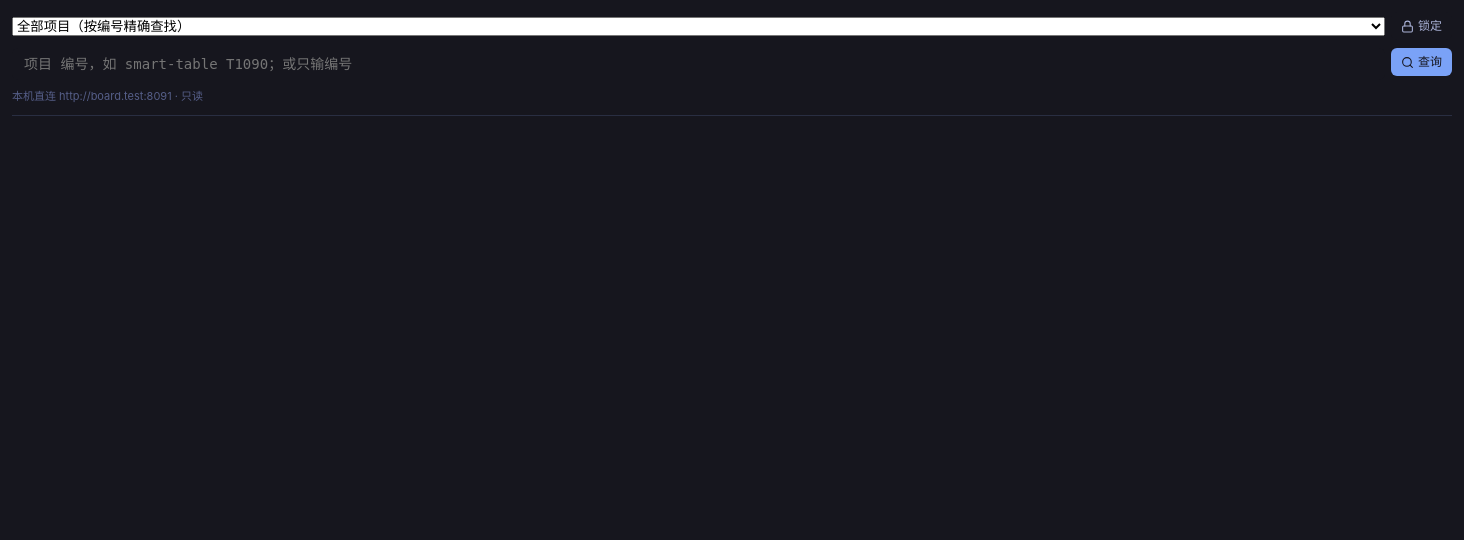
it: locks a project, persists it, and then locates a task by number only
Select "智能台球桌 · smart-table" in the dropdown named "查询项目". click: coordinates (698, 26)
box: [12,16,1385,36]
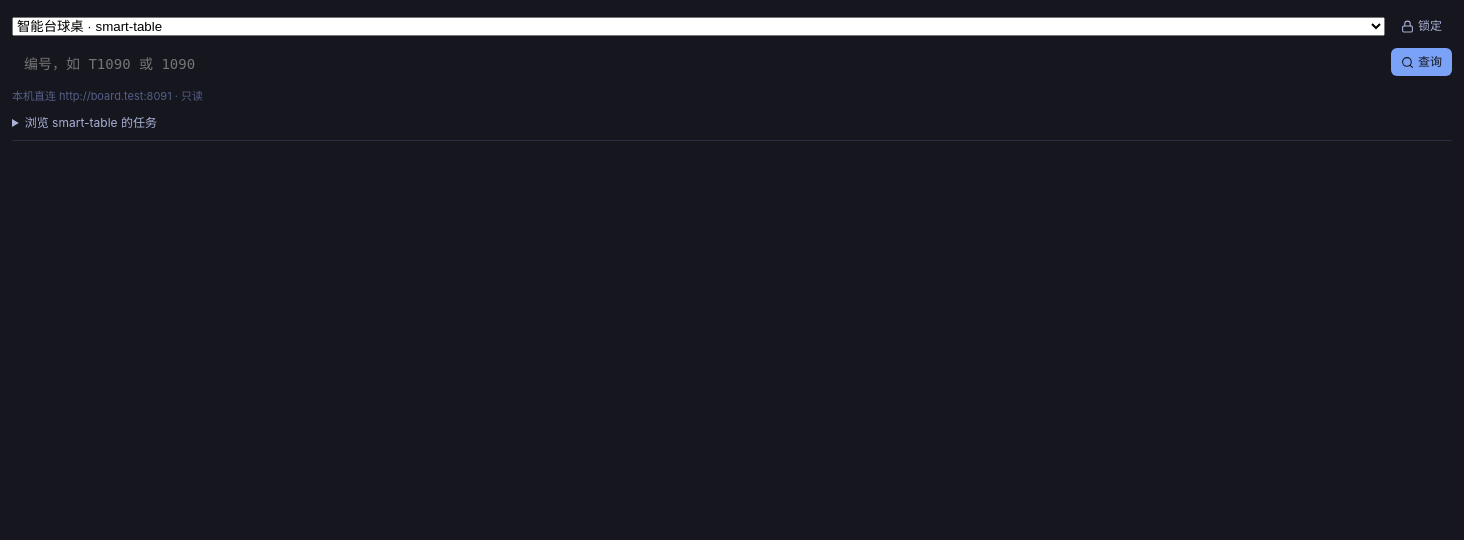
Click the button "锁定". click: coordinates (1422, 26)
box: [1391,12,1452,40]
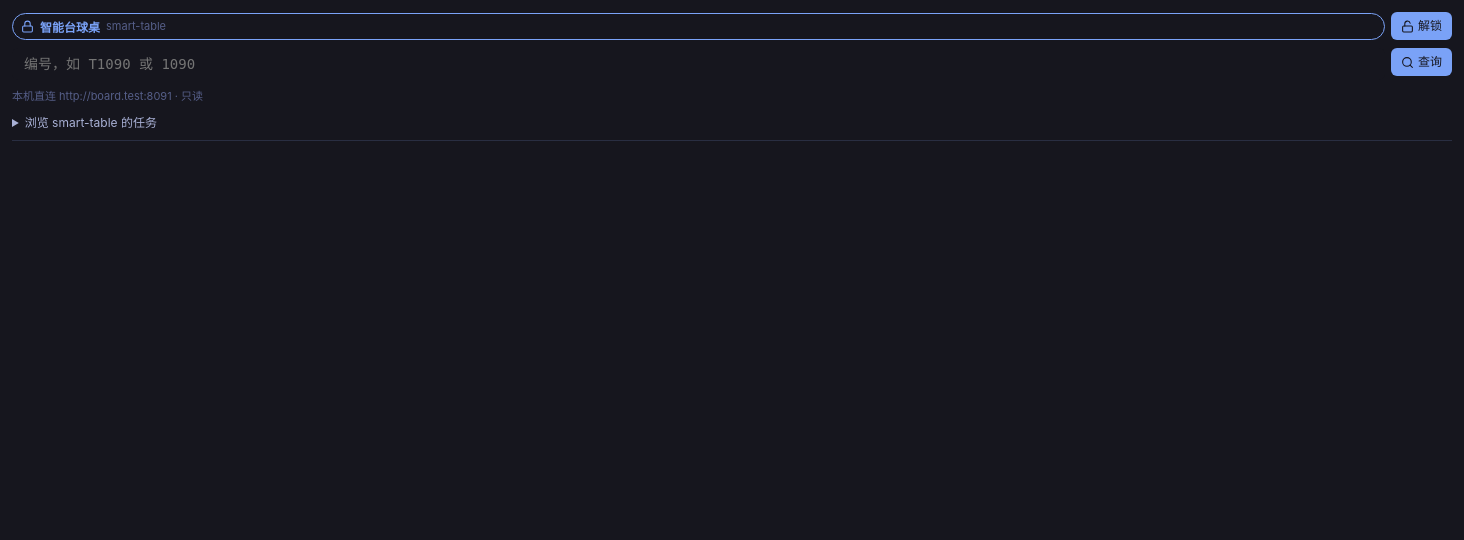
Result: the text "smart-table" is shown at [106,19,166,33]
Result: the text "智能台球桌" is shown at [40,18,100,34]
Result: the dropdown labelled "查询项目" is gone
Type "t1090" into the field named "任务编号". click: coordinates (698, 64)
box: [12,48,1385,80]
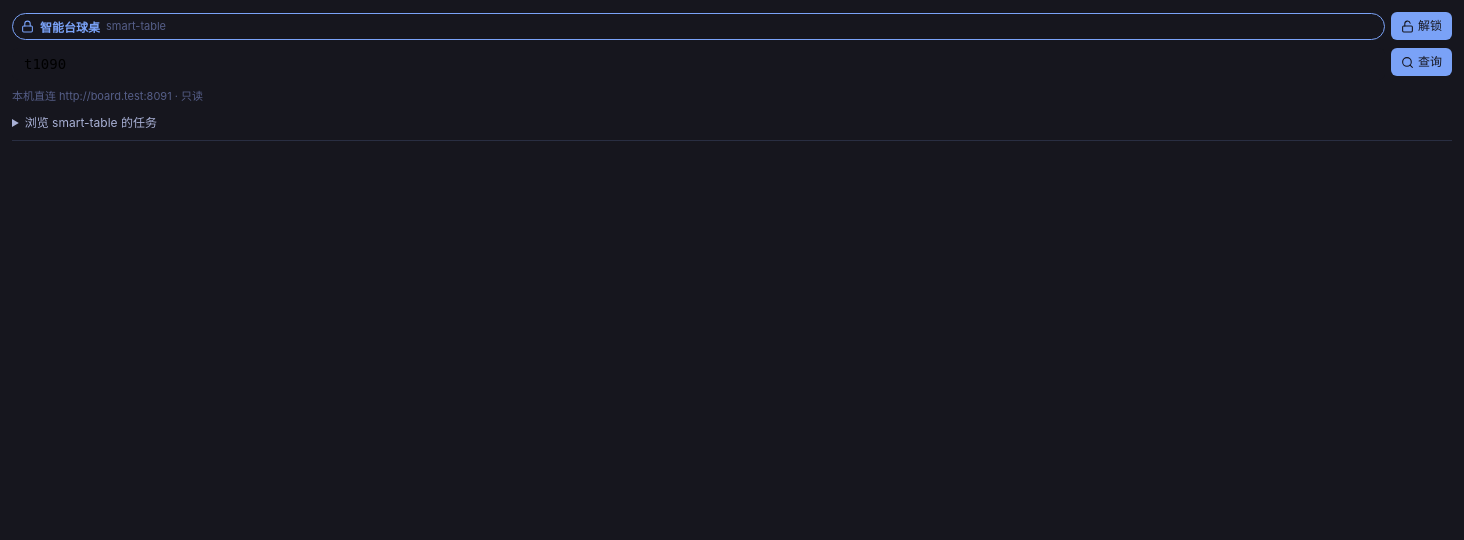
Click the button "查询". click: coordinates (1422, 62)
box: [1391,48,1452,76]
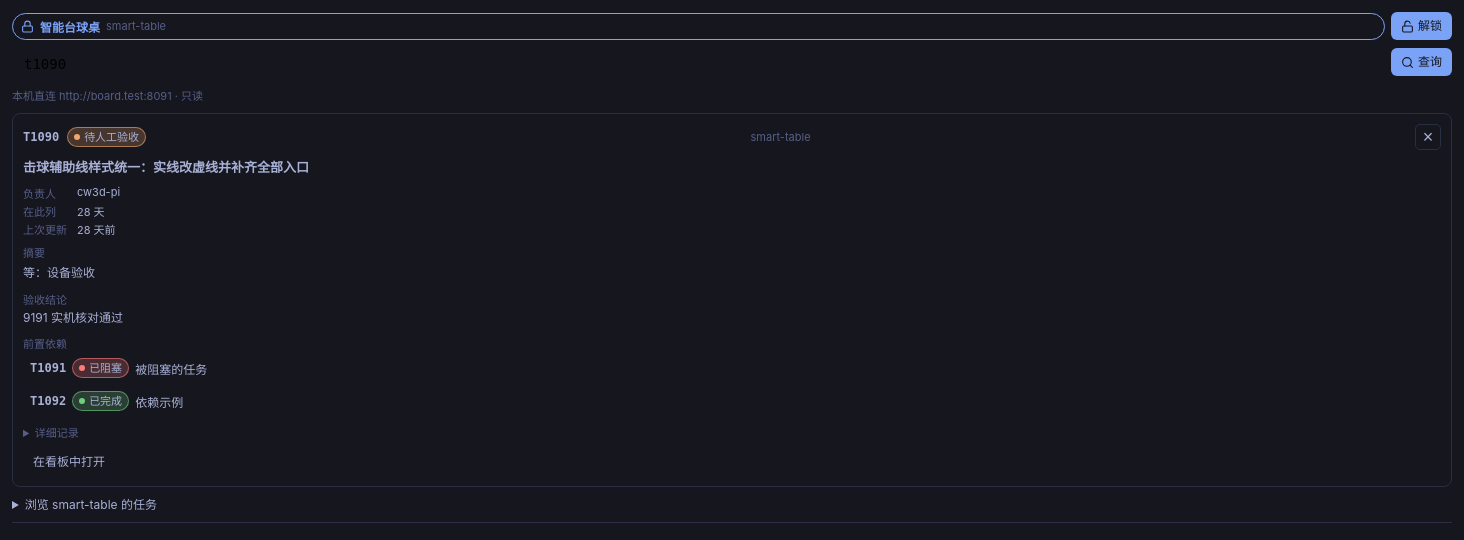
Result: the heading "击球辅助线样式统一：实线改虚线并补齐全部入口" is shown at [23,158,309,174]
Result: the text "待人工验收" is shown at [67,126,146,146]
Result: the text "cw3d-pi" is shown at [77,185,120,199]
Click the button "解锁". click: coordinates (1422, 26)
box: [1391,12,1452,40]
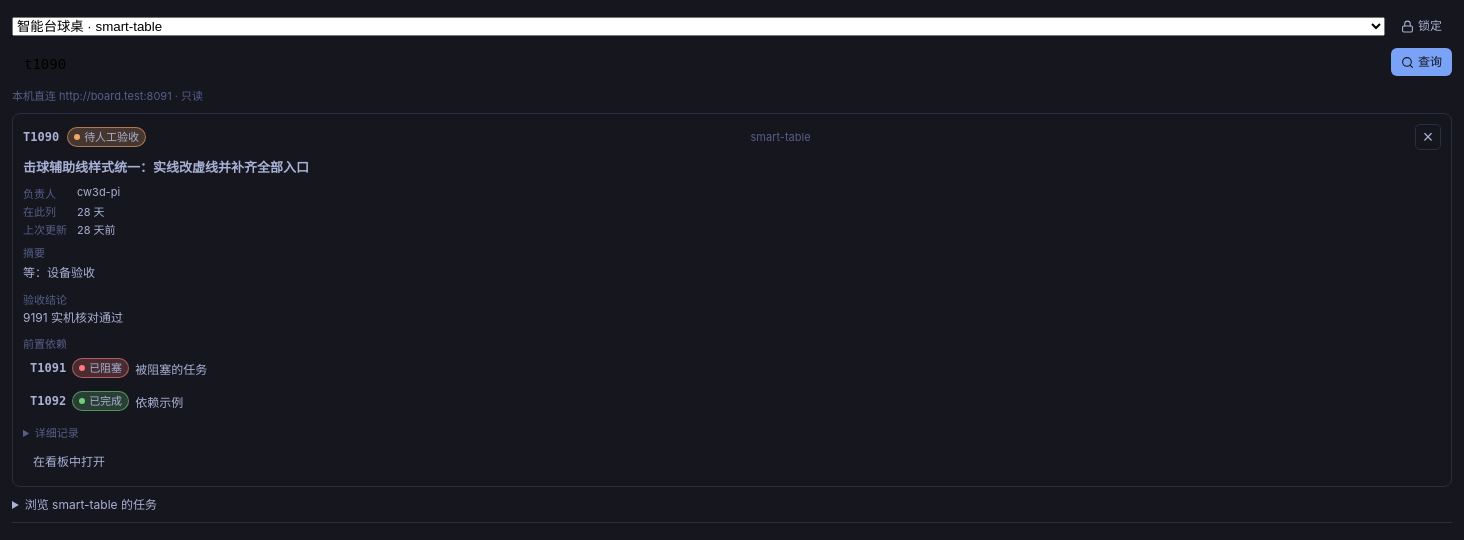
Result: the dropdown named "查询项目" shows "智能台球桌 · smart-table" at [12,16,1385,36]
